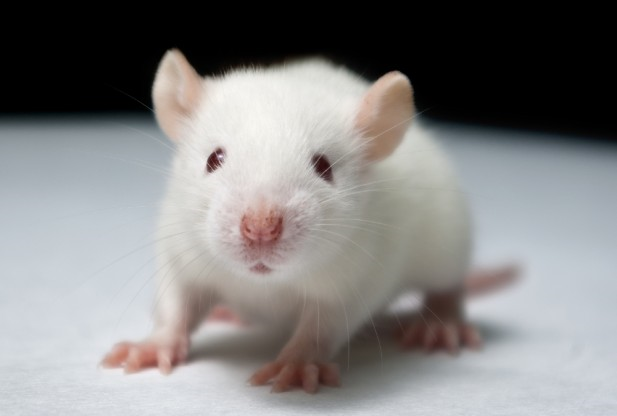mouse: (121, 32, 506, 377)
